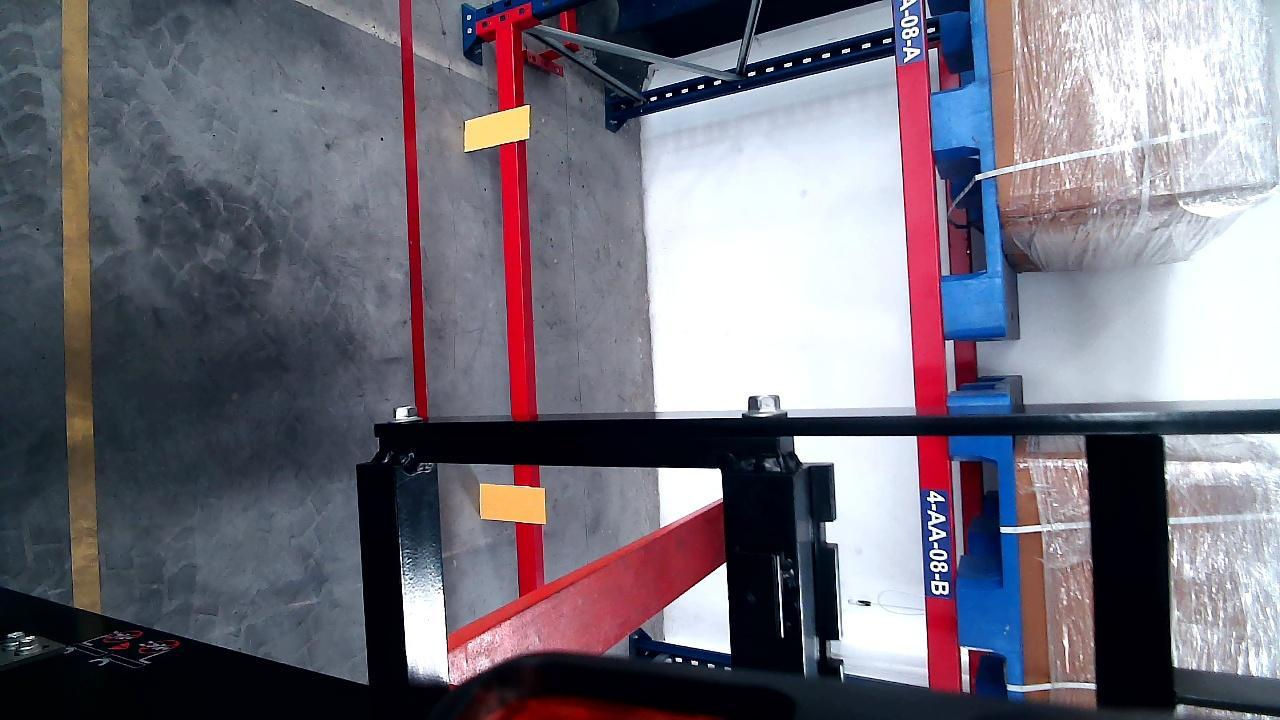red_line: (399, 0, 431, 419)
yellow_line: (59, 0, 100, 614)
